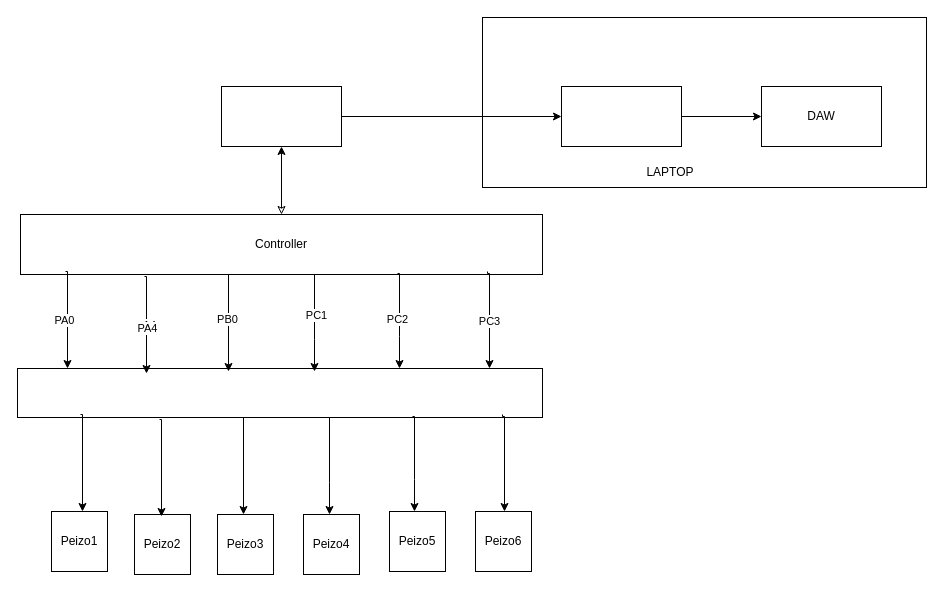
Some shapes in this 944 by 592 pixel diagram are drawn without their labels. The centre of each missing label's shape, as x and y in pixels:
"Buffer(LM358)" goes at point (279, 393).
"Hairless MIDI" goes at point (621, 116).
"USB to UART" goes at point (281, 116).
